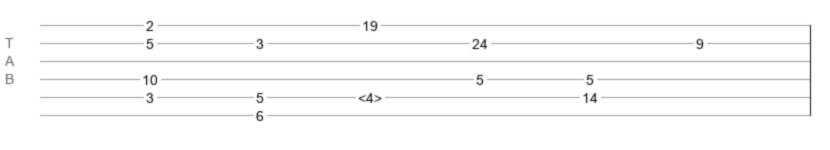10: (142, 72, 158, 82)
14: (582, 90, 598, 100)
19: (362, 18, 378, 28)
2: (146, 18, 154, 28)
24: (472, 36, 488, 46)
3: (146, 90, 154, 100), (256, 36, 264, 46)
5: (146, 36, 154, 46), (256, 90, 264, 100), (476, 72, 484, 82), (586, 72, 594, 82)
6: (256, 108, 264, 118)
9: (696, 36, 704, 46)
harmonic: (358, 90, 382, 100)
